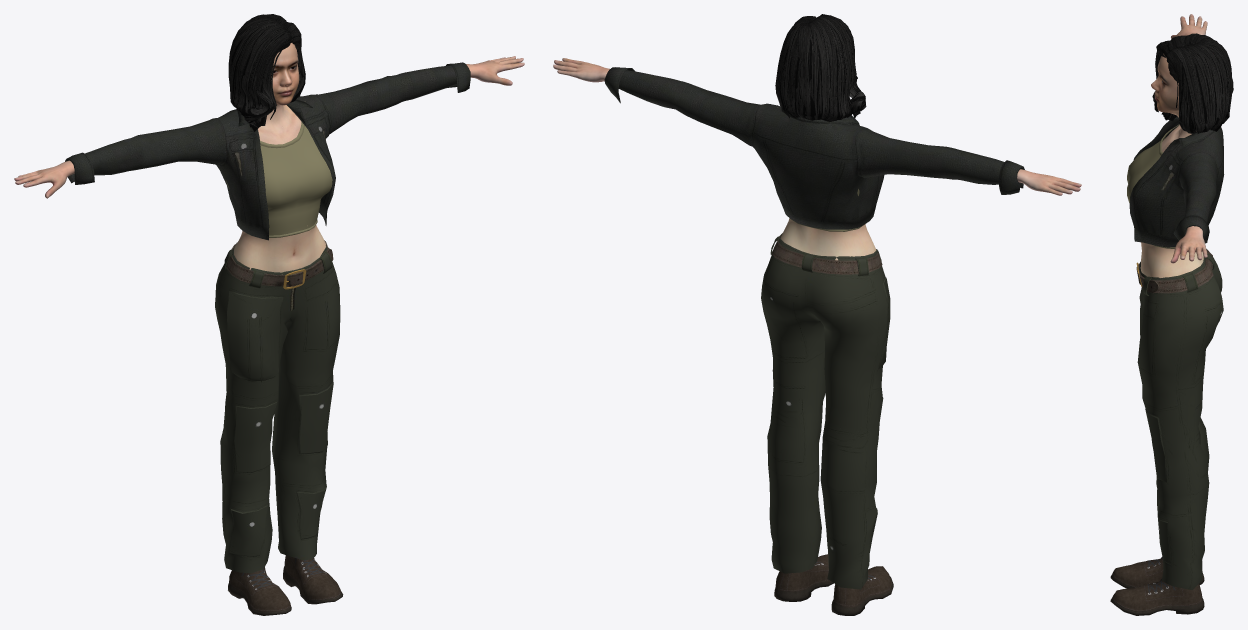
File: hridy_char.obj
3 renders of one model, left to right at view 1: azimuth 30°, elevation 25°; view 2: azimuth 150°, elevation 25°; view 3: azimuth 270°, elevation 25°, orthographic. The views are drawn at different scales.
Parts seen in each view (by area): view 1: clothes, body, hair_b, shoes; view 2: clothes, hair_b, body, shoes; view 3: clothes, hair_b, body, shoes.
Part boxes in pixels (box(x1,y1,x2,y2)): clothes: box(65, 62, 470, 573); body: box(14, 43, 524, 274); hair_b: box(228, 14, 305, 131); shoes: box(228, 555, 343, 615); clothes: box(604, 67, 1024, 589); hair_b: box(775, 14, 866, 121); body: box(553, 58, 1081, 260); shoes: box(774, 554, 893, 615); clothes: box(1127, 33, 1224, 590); hair_b: box(1152, 34, 1233, 133); body: box(1140, 14, 1207, 277); shoes: box(1110, 557, 1204, 615).
Bounding box in the file's own units: 1.77 × 1.88 × 0.3755.
Materials: 5 (5 with a texture image).
